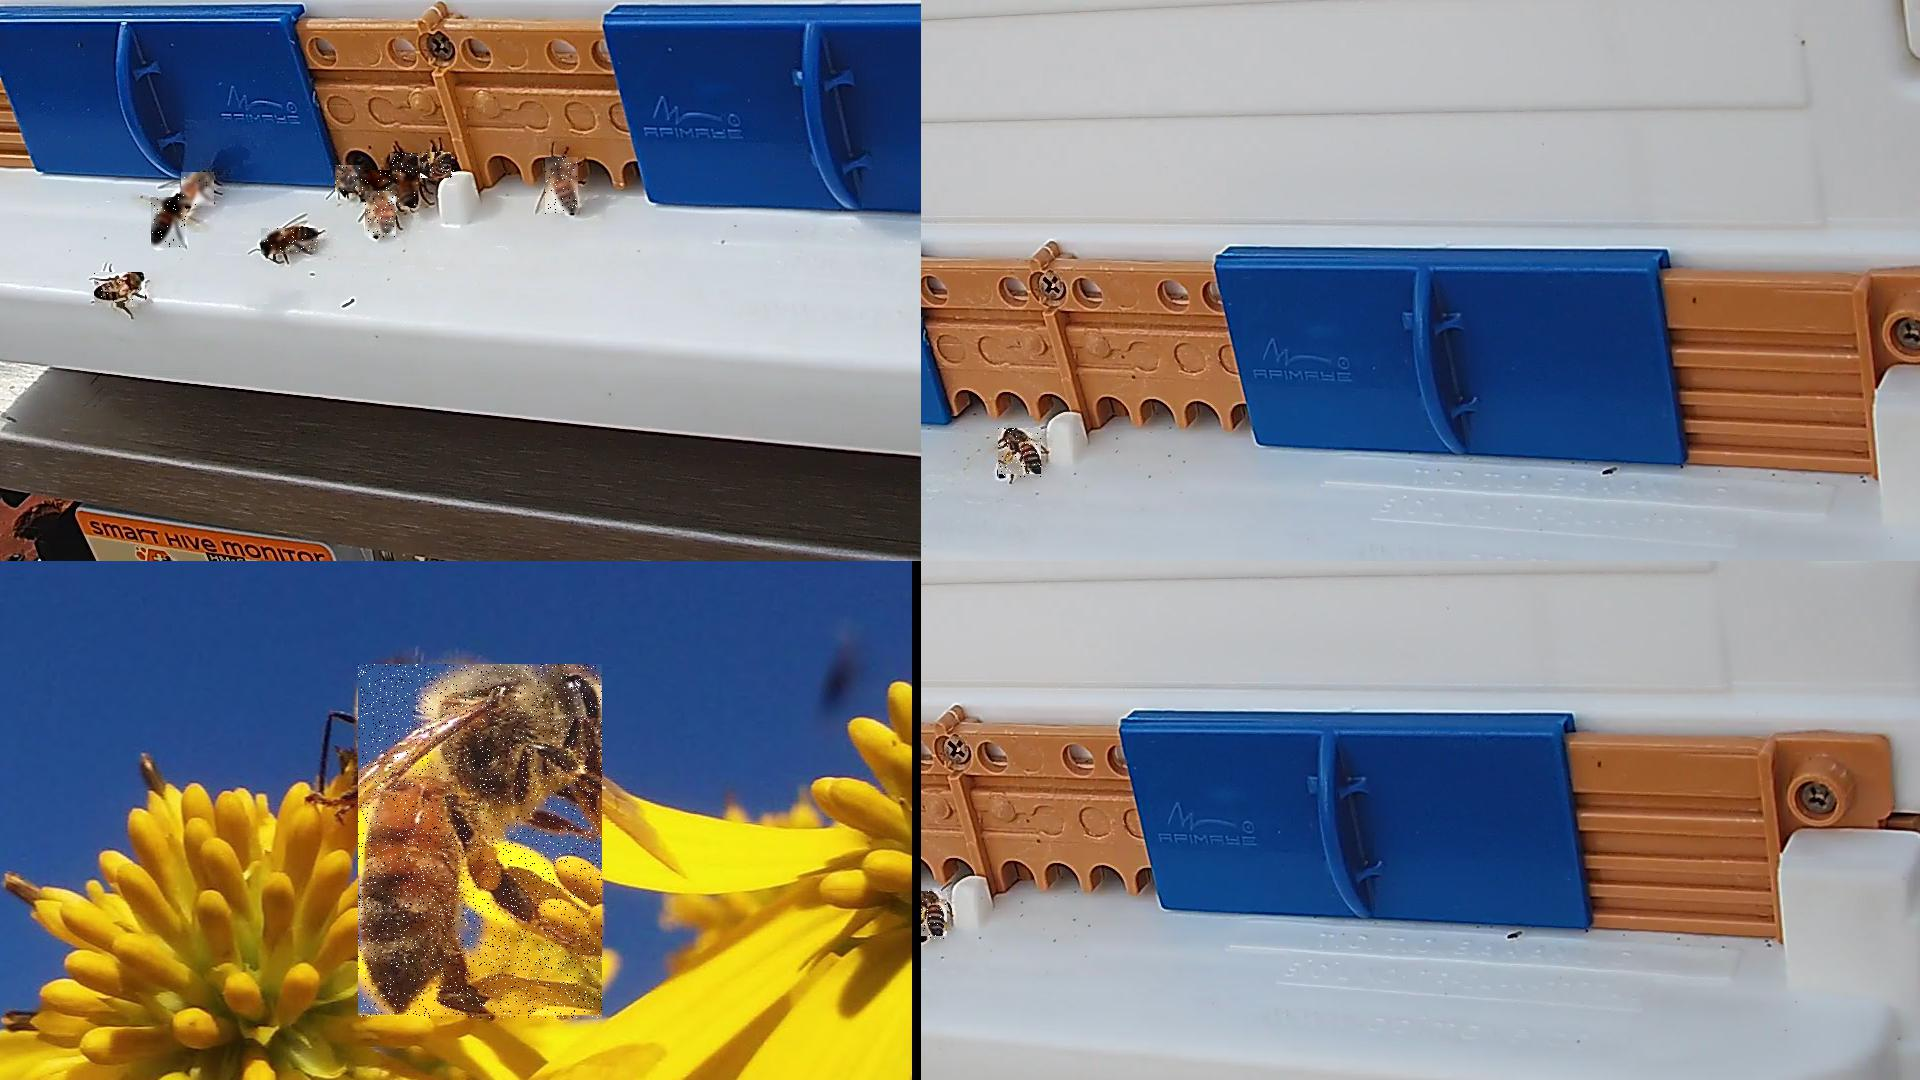bee: (545, 158, 579, 216), (152, 198, 189, 251), (95, 273, 146, 307), (261, 228, 319, 255), (365, 193, 397, 239), (181, 173, 215, 208), (361, 170, 393, 200), (390, 154, 419, 183), (336, 166, 364, 194), (398, 177, 419, 207)
pollenbee: (357, 665, 603, 1019), (998, 429, 1042, 479), (920, 891, 949, 942), (421, 152, 456, 179)
